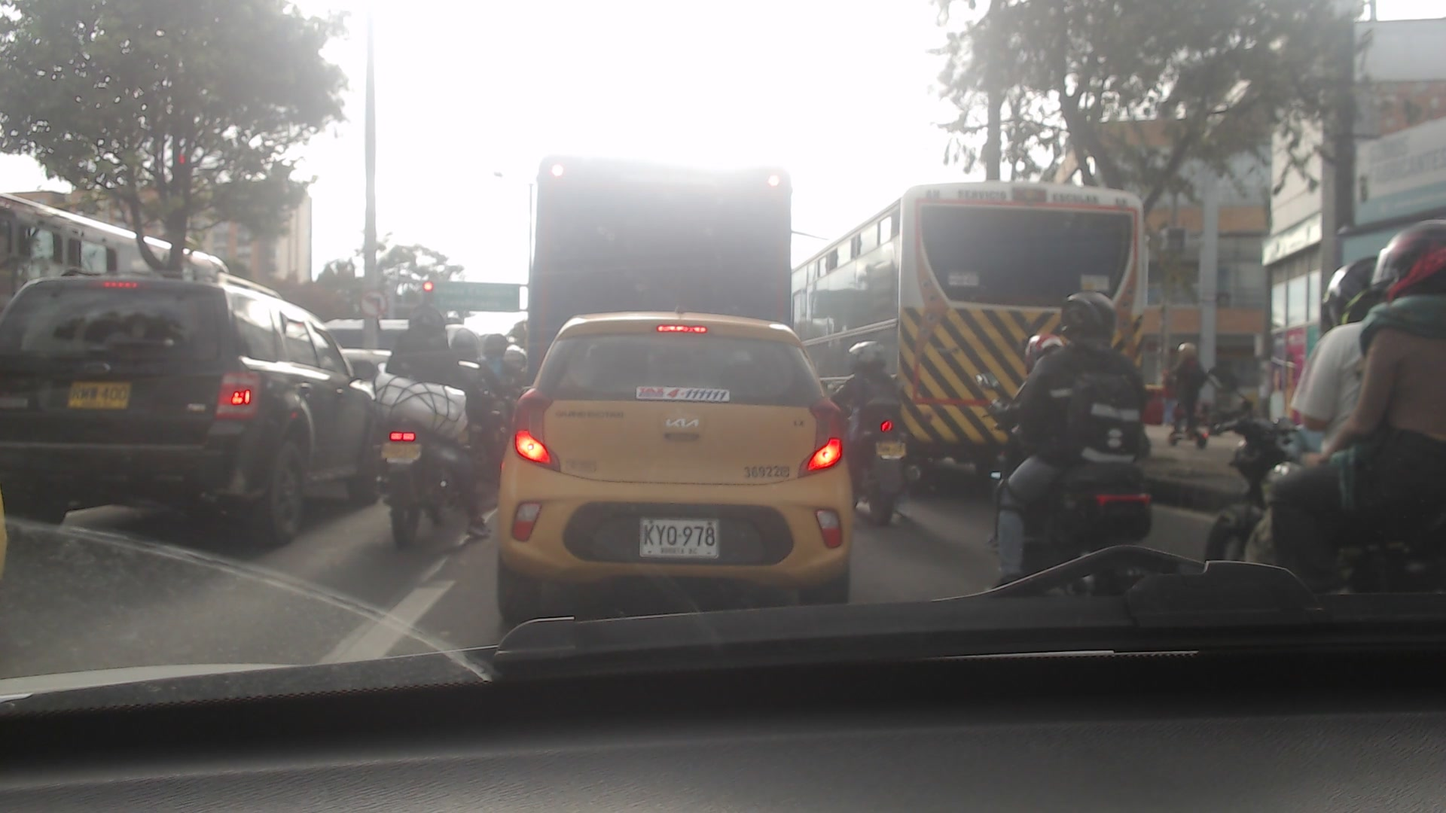bus: (774, 182, 1154, 466)
car: (499, 315, 851, 630), (0, 270, 383, 547)
motorcycle: (363, 426, 490, 548)
person: (1018, 298, 1160, 491), (1365, 217, 1444, 518), (1301, 250, 1374, 466), (382, 309, 476, 437), (830, 329, 904, 450), (1163, 341, 1213, 439)
truck: (530, 149, 797, 333)
